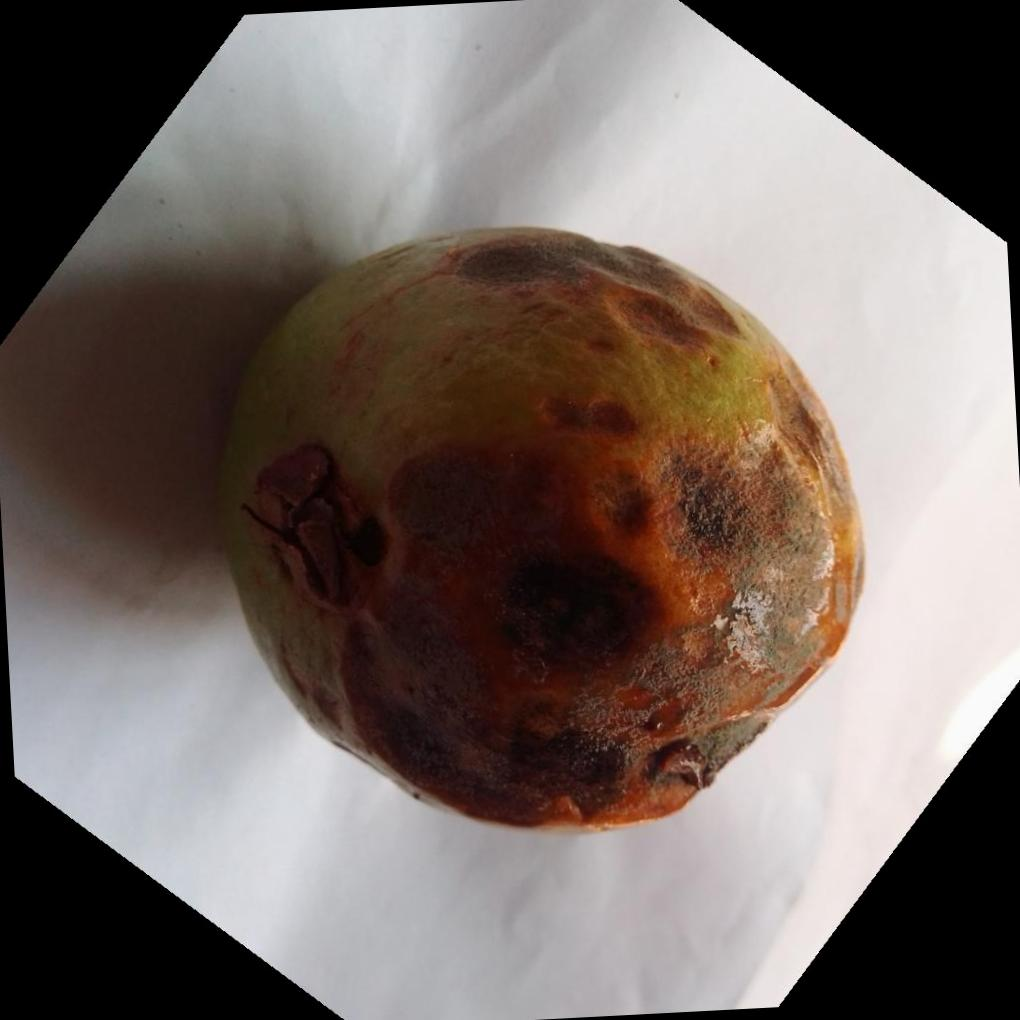FreshOrange: (211, 219, 865, 829)
